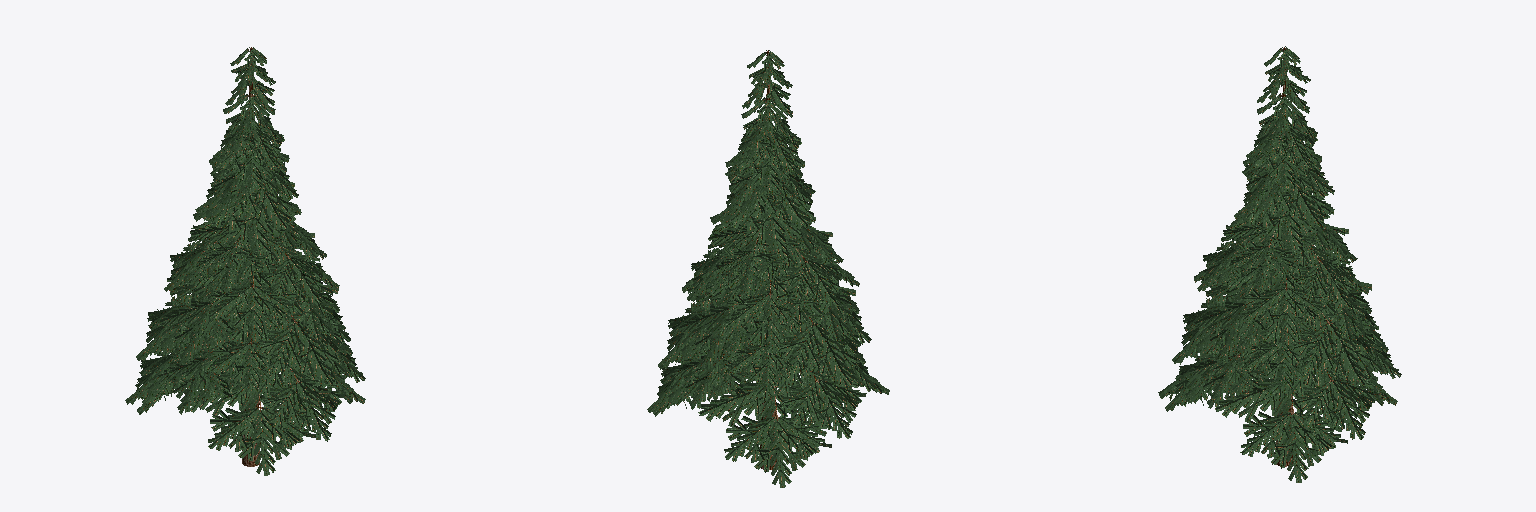
The picture shows the model from 3 angles: view 1: azimuth 30°, elevation 25°; view 2: azimuth 150°, elevation 25°; view 3: azimuth 270°, elevation 25°; orthographic projection.
Parts seen in each view (by area): view 1: tree3; view 2: tree3; view 3: tree3.
Boxes of the visible parts, x1=… form: tree3: x1=125, y1=47, x2=365, y2=475; tree3: x1=647, y1=50, x2=889, y2=487; tree3: x1=1158, y1=46, x2=1401, y2=482.
Size of the model in its own units: 190 by 354 by 188.
Materials: 2 (2 with a texture image).